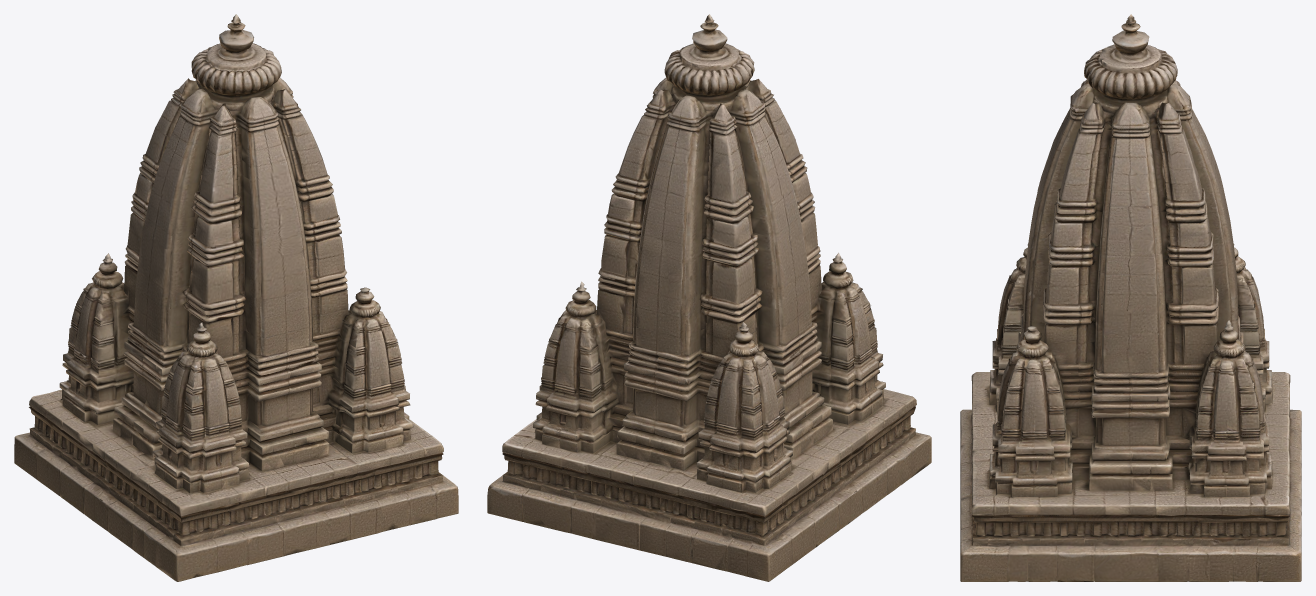
The model's file is shikhara.glb.
The picture shows the model from 3 angles, left to right: view 1: azimuth 30°, elevation 25°; view 2: azimuth 150°, elevation 25°; view 3: azimuth 270°, elevation 25°; orthographic projection. The views are drawn at different scales.
Size of the model in its own units: 0.6122 by 0.981 by 0.6123.
Materials: 1 (1 with a texture image).
